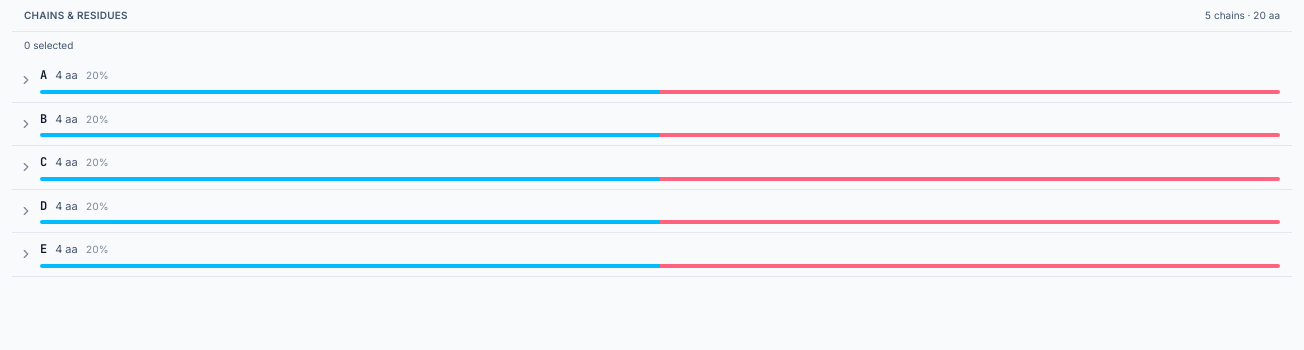
ChainTree › starts collapsed once there are more chains than the rail can show open
Step 1. Click the button named "expand chain A" → click(26, 80), box [12,59,40,102]
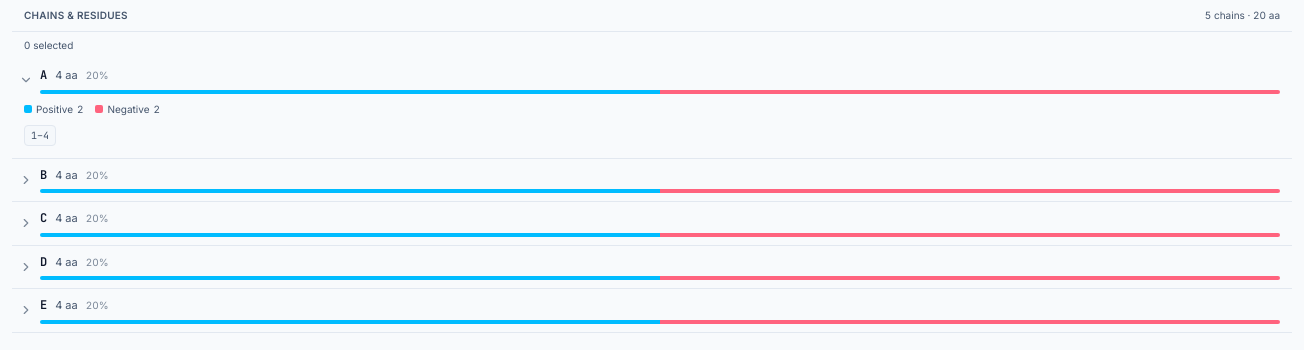
Expected: the button with test id "chain-segment-A-1" is shown, [24,124,56,146]
